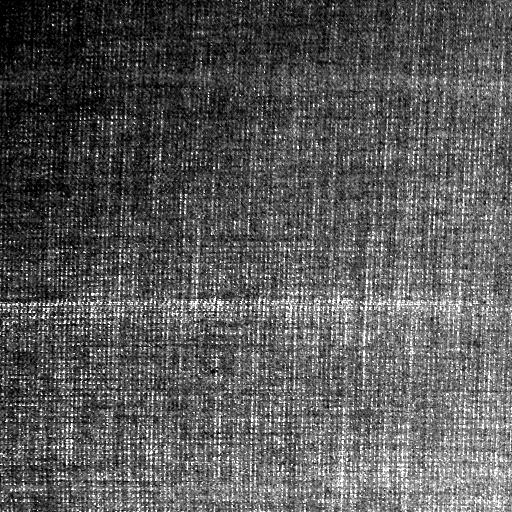fabric_missing_pick: (9, 286, 494, 318)
